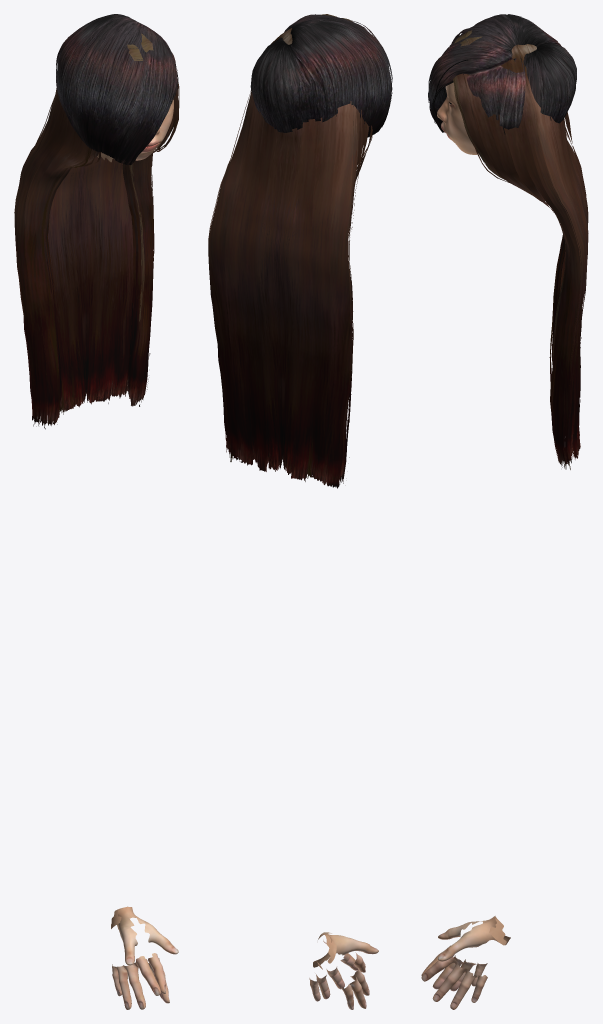
File: human.glb
The picture shows the model from 3 angles, left to right: view 1: azimuth 30°, elevation 25°; view 2: azimuth 150°, elevation 25°; view 3: azimuth 270°, elevation 25°; orthographic projection. The views are drawn at different scales.
Parts seen in each view (by area): view 1: HairLong, HairShort, HandR, HandL, Head; view 2: HairLong, HairShort, HandL, HandR; view 3: HairLong, HairShort, HandL, HandR, Head.
Boxes of the visible parts, left/top/right/bottom form: HairLong: left=14, top=33, right=179, bottom=429; HairShort: left=56, top=14, right=178, bottom=165; HandR: left=111, top=907, right=178, bottom=1009; HandL: left=117, top=906, right=169, bottom=1003; Head: left=97, top=99, right=173, bottom=162; HairLong: left=208, top=14, right=372, bottom=488; HairShort: left=250, top=14, right=392, bottom=137; HandL: left=309, top=935, right=378, bottom=1001; HandR: left=317, top=932, right=369, bottom=1009; HairLong: left=453, top=30, right=588, bottom=469; HairShort: left=428, top=14, right=576, bottom=134; HandL: left=421, top=916, right=506, bottom=1009; HandR: left=421, top=917, right=510, bottom=991; Head: left=437, top=82, right=478, bottom=154.
Bounding box in the file's own units: 0.3 × 2.02 × 0.3123.
Materials: 4 (4 with a texture image).
